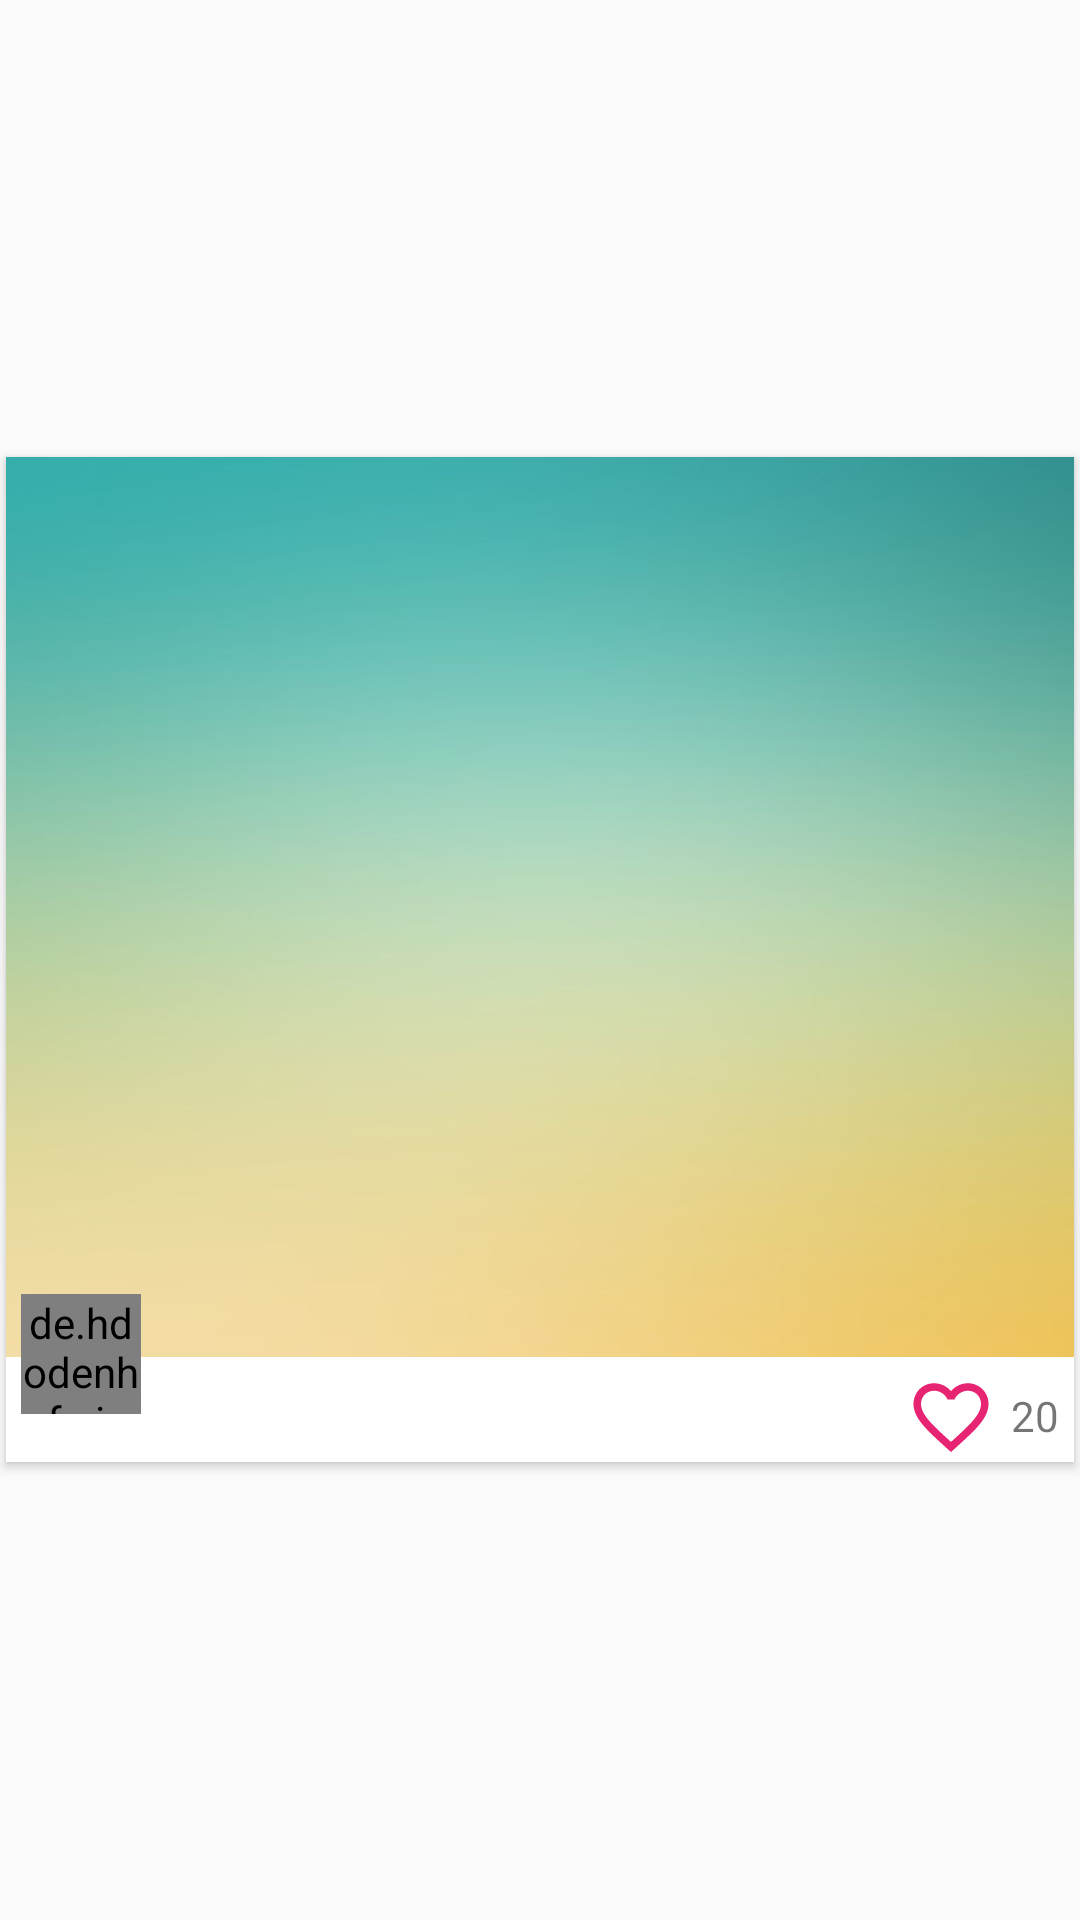

Icon bounding boxes for this 1080x1920 phone screenshot, format (x1, y1, x2, y2):
favorite border: (913, 1383, 989, 1452)
